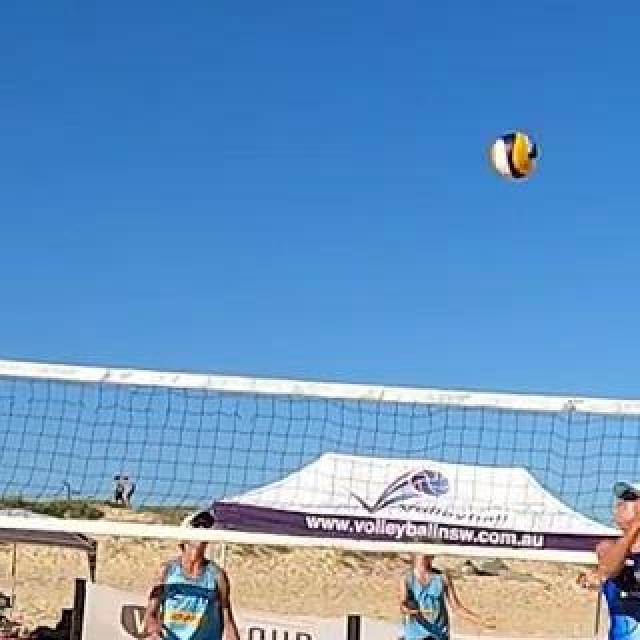volleyball: (492, 134, 538, 178)
